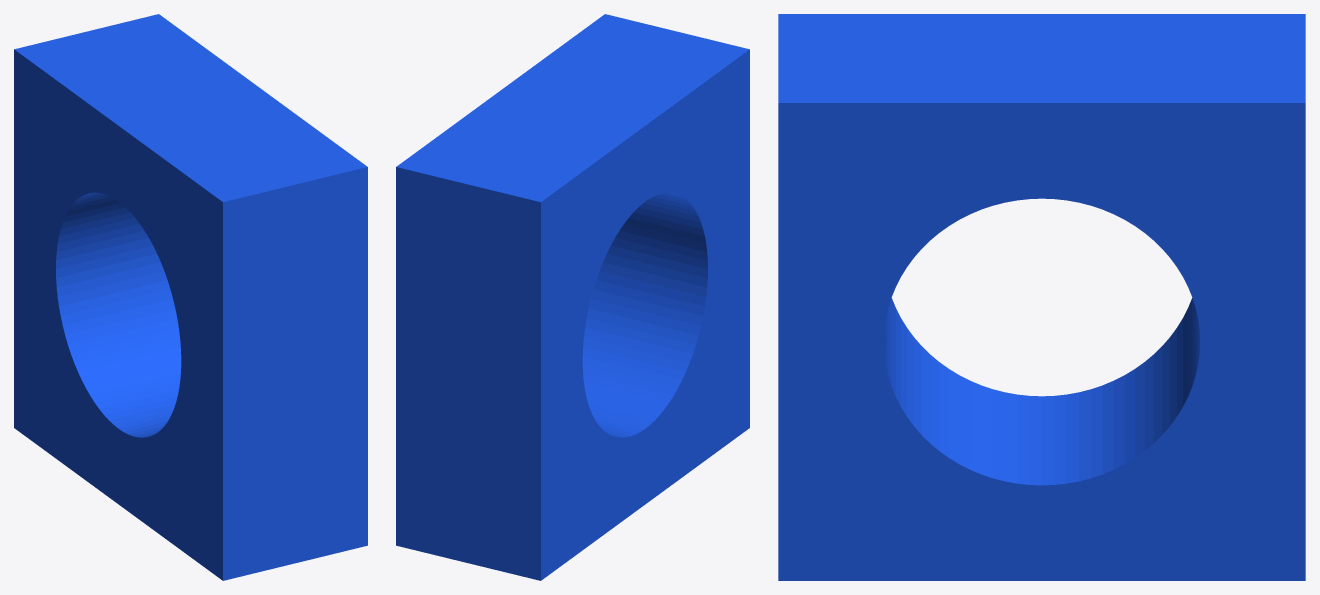
3 views of the same model, side by side, from view 1: azimuth 30°, elevation 25°; view 2: azimuth 150°, elevation 25°; view 3: azimuth 270°, elevation 25° (orthographic). The views are drawn at different scales.
Size of the model in its own units: 20 by 50 by 50.
